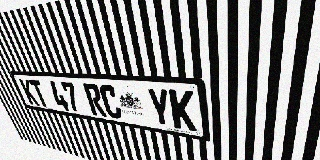4: (47, 81, 70, 111)
7: (60, 82, 83, 113)
C: (98, 84, 123, 120)
K: (169, 89, 197, 132), (19, 79, 40, 106)
R: (82, 83, 107, 117)
T: (28, 80, 50, 108)
Y: (146, 88, 173, 128)
